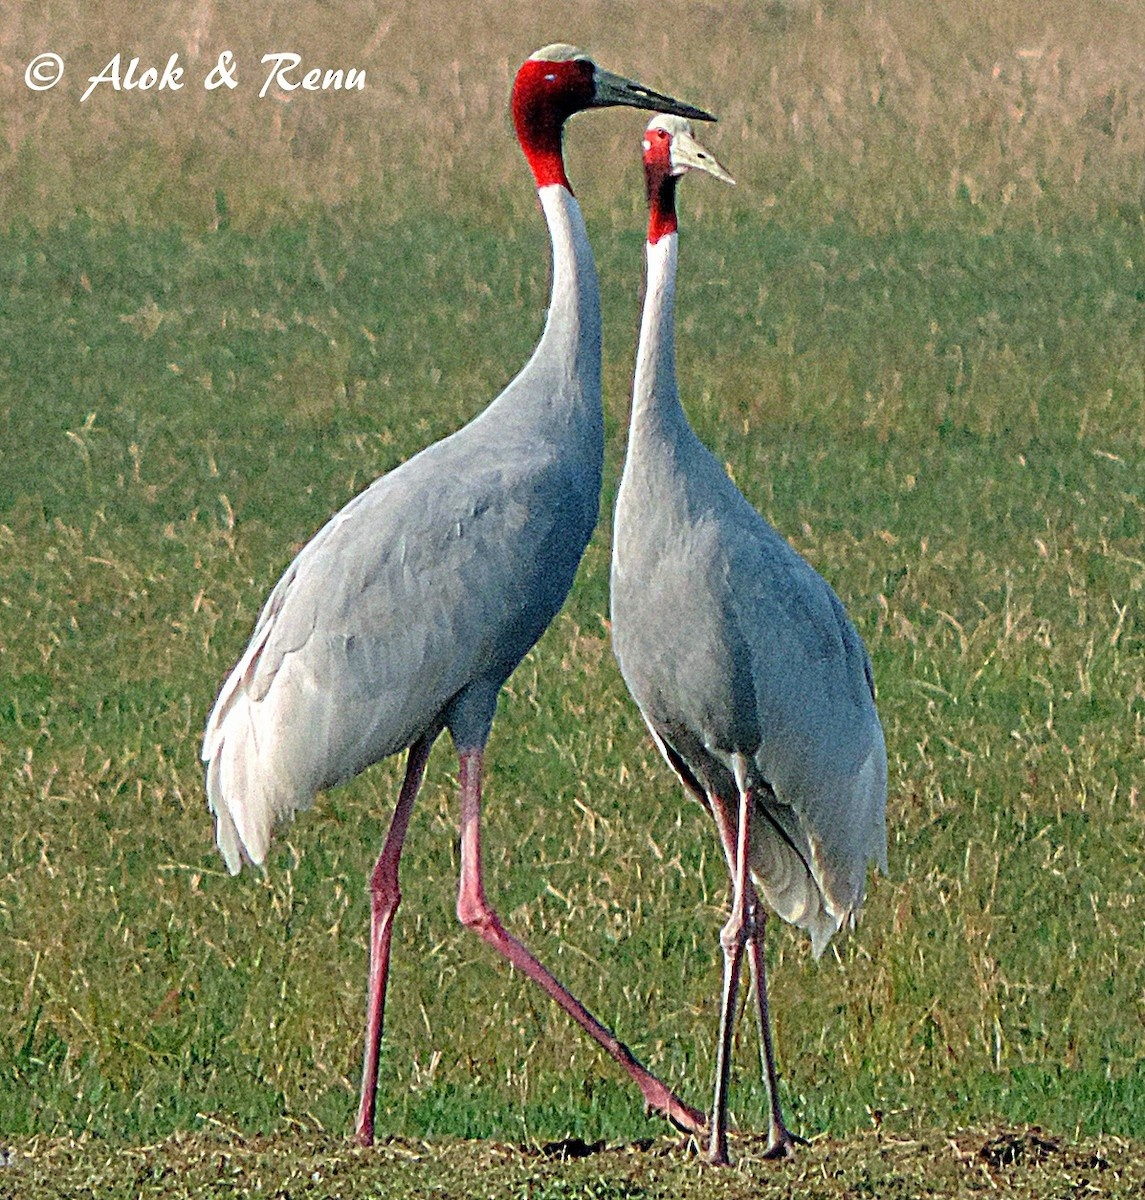crane: (186, 46, 738, 1132), (623, 108, 912, 1164)
